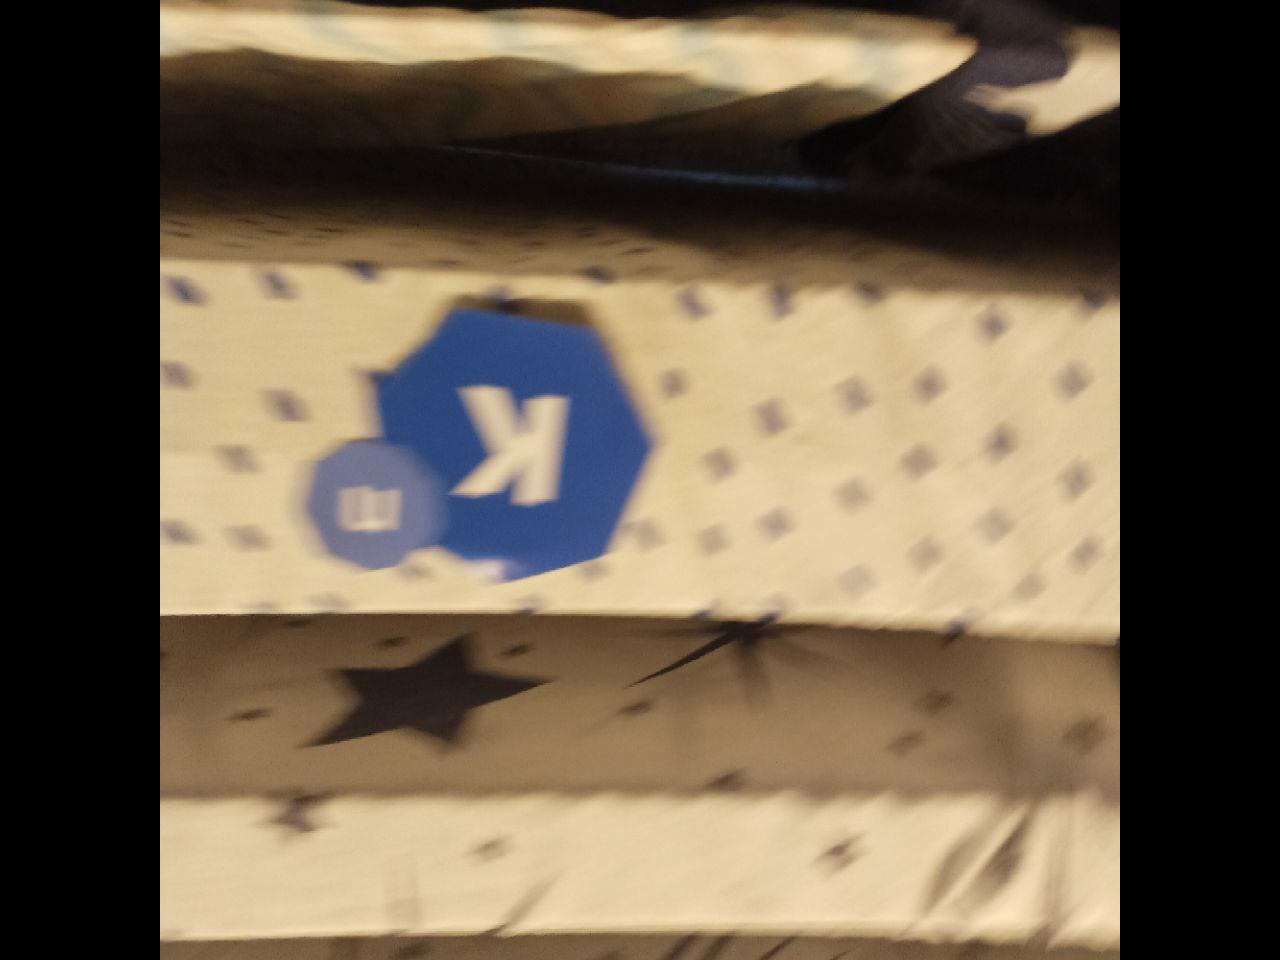knative: (305, 301, 654, 589)
